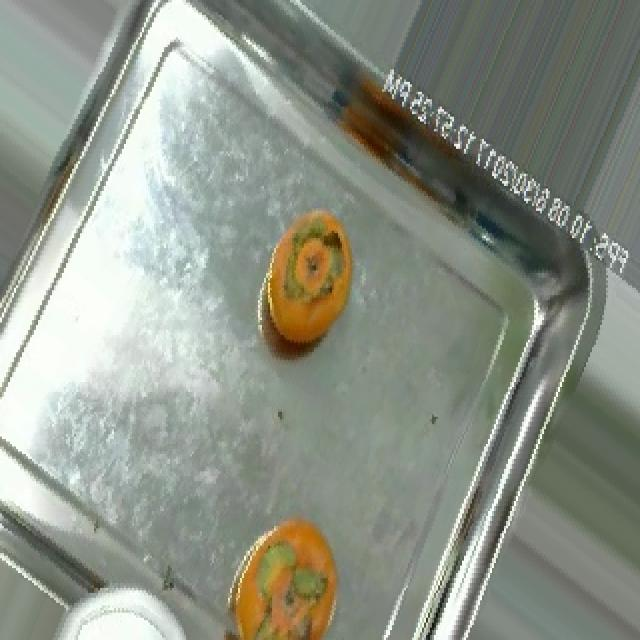Fruit: (246, 189, 370, 382), (218, 501, 360, 638)
